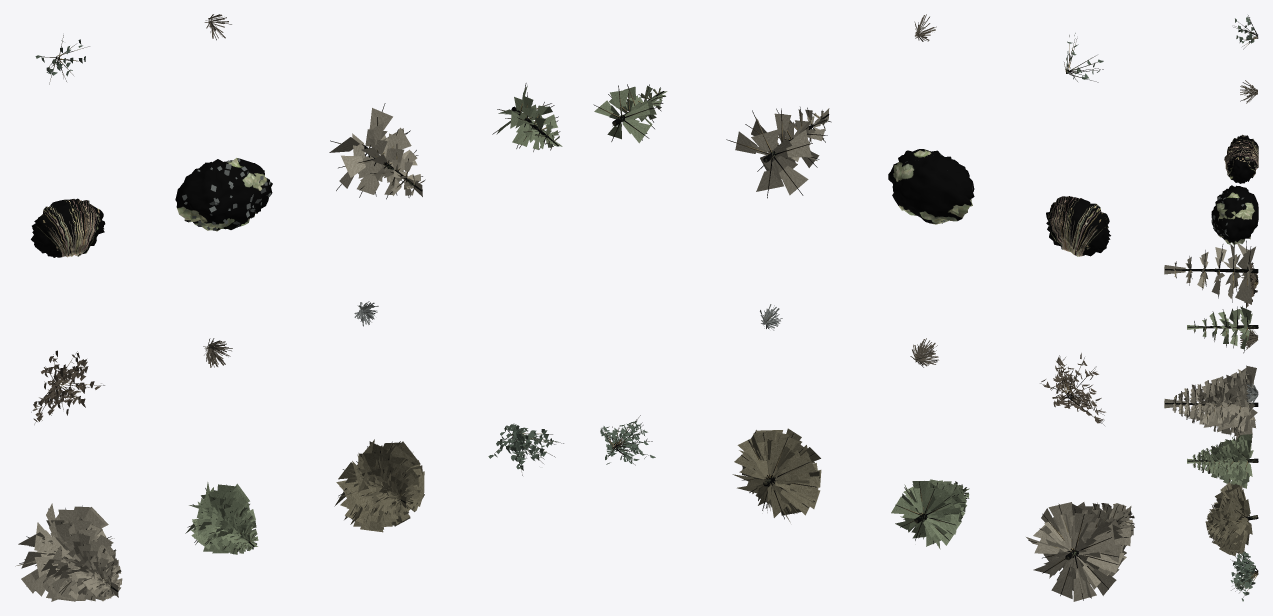
File: PZ_ALP_00_Alpine_Vegetation_ALL_Combined.glb
3 views of the same model, side by side, from view 1: azimuth 30°, elevation 25°; view 2: azimuth 150°, elevation 25°; view 3: azimuth 270°, elevation 25° (orthographic). The views are drawn at different scales.
Visible parts, largest first — view 1: 01_NeedleSprigCards_DoubleSided_MASK, 03_NeedleSprigCards_DoubleSided_MASK, 10_RockBody_WatertightFaceted, 11_NeedleSprigCards_DoubleSided_MASK, 02_NeedleSprigCards_DoubleSided_MASK, 09_RockBody_WatertightFaceted, 12_NeedleSprigCards_DoubleSided_MASK, 05_Leaves_AlphaMaskedCards, 04_Leaves_AlphaMaskedCards, 10_Lichen_FacadePatches_AlphaMasked; view 2: 01_NeedleSprigCards_DoubleSided_MASK, 03_NeedleSprigCards_DoubleSided_MASK, 10_RockBody_WatertightFaceted, 11_NeedleSprigCards_DoubleSided_MASK, 02_NeedleSprigCards_DoubleSided_MASK, 09_RockBody_WatertightFaceted, 12_NeedleSprigCards_DoubleSided_MASK, 05_Leaves_AlphaMaskedCards, 04_Leaves_AlphaMaskedCards; view 3: 01_NeedleSprigCards_DoubleSided_MASK, 03_NeedleSprigCards_DoubleSided_MASK, 10_RockBody_WatertightFaceted, 02_NeedleSprigCards_DoubleSided_MASK, 11_NeedleSprigCards_DoubleSided_MASK, 09_RockBody_WatertightFaceted, 12_NeedleSprigCards_DoubleSided_MASK, 04_Leaves_AlphaMaskedCards, 11_StructuralBranches_Conifer, 01_StructuralBranches_Conifer, 11_TreeTrunk_Bark, 02_StructuralBranches_Conifer (+9 smaller).
Boxes of the visible parts, x1,y1,x2,y2 form: 01_NeedleSprigCards_DoubleSided_MASK: (15,503,122,601); 03_NeedleSprigCards_DoubleSided_MASK: (334,439,424,532); 10_RockBody_WatertightFaceted: (175,158,272,231); 11_NeedleSprigCards_DoubleSided_MASK: (329,108,424,196); 02_NeedleSprigCards_DoubleSided_MASK: (185,482,258,554); 09_RockBody_WatertightFaceted: (31,198,105,257); 12_NeedleSprigCards_DoubleSided_MASK: (496,85,562,149); 05_Leaves_AlphaMaskedCards: (33,350,101,421); 04_Leaves_AlphaMaskedCards: (488,423,557,470); 10_Lichen_FacadePatches_AlphaMasked: (182,158,271,230); 01_NeedleSprigCards_DoubleSided_MASK: (1026,502,1134,601); 03_NeedleSprigCards_DoubleSided_MASK: (732,428,821,522); 10_RockBody_WatertightFaceted: (888,149,974,224); 11_NeedleSprigCards_DoubleSided_MASK: (735,108,829,195); 02_NeedleSprigCards_DoubleSided_MASK: (891,479,969,549); 09_RockBody_WatertightFaceted: (1046,196,1110,256); 12_NeedleSprigCards_DoubleSided_MASK: (594,85,667,143); 05_Leaves_AlphaMaskedCards: (1041,353,1105,423); 04_Leaves_AlphaMaskedCards: (600,420,655,464); 01_NeedleSprigCards_DoubleSided_MASK: (1164,365,1257,440); 03_NeedleSprigCards_DoubleSided_MASK: (1205,482,1252,556); 10_RockBody_WatertightFaceted: (1211,185,1258,245); 02_NeedleSprigCards_DoubleSided_MASK: (1187,434,1253,488); 11_NeedleSprigCards_DoubleSided_MASK: (1164,242,1255,304); 09_RockBody_WatertightFaceted: (1224,134,1258,183); 12_NeedleSprigCards_DoubleSided_MASK: (1187,306,1252,349); 04_Leaves_AlphaMaskedCards: (1230,551,1255,601); 11_StructuralBranches_Conifer: (1175,240,1251,304); 01_StructuralBranches_Conifer: (1175,371,1251,442); 11_TreeTrunk_Bark: (1165,269,1258,272); 02_StructuralBranches_Conifer: (1194,436,1248,487).
Size of what is drawn, in the model's own units: 14.41 by 14.59 by 2.92.
Materials: 2 (2 with a texture image).
